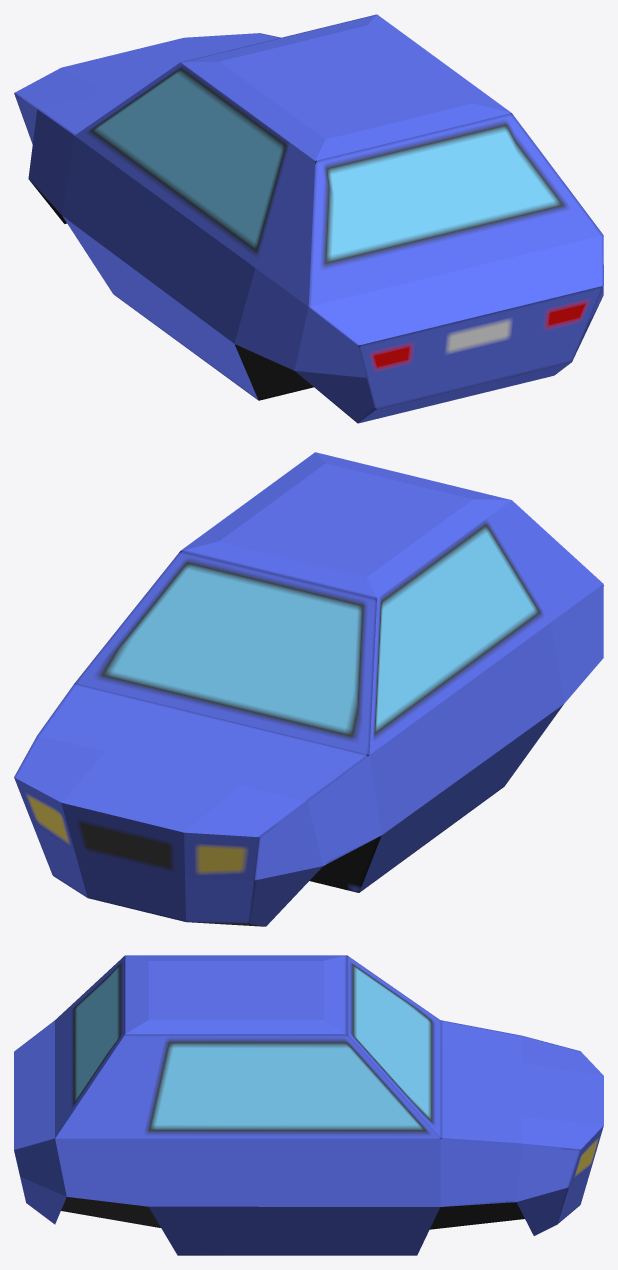
Rendered from small.fbx.
3 views of the same model, one above another, from view 1: azimuth 30°, elevation 25°; view 2: azimuth 150°, elevation 25°; view 3: azimuth 270°, elevation 25° (orthographic). The views are drawn at different scales.
Parts seen in each view (by area): view 1: cuboid; view 2: cuboid; view 3: cuboid.
Part boxes in pixels (x1,y1,x2,y2): cuboid: [14, 14, 603, 423]; cuboid: [14, 452, 603, 926]; cuboid: [14, 955, 603, 1255].
Size of the model in its own units: 83.89 by 63.75 by 158.
Materials: 1 (1 with a texture image).
